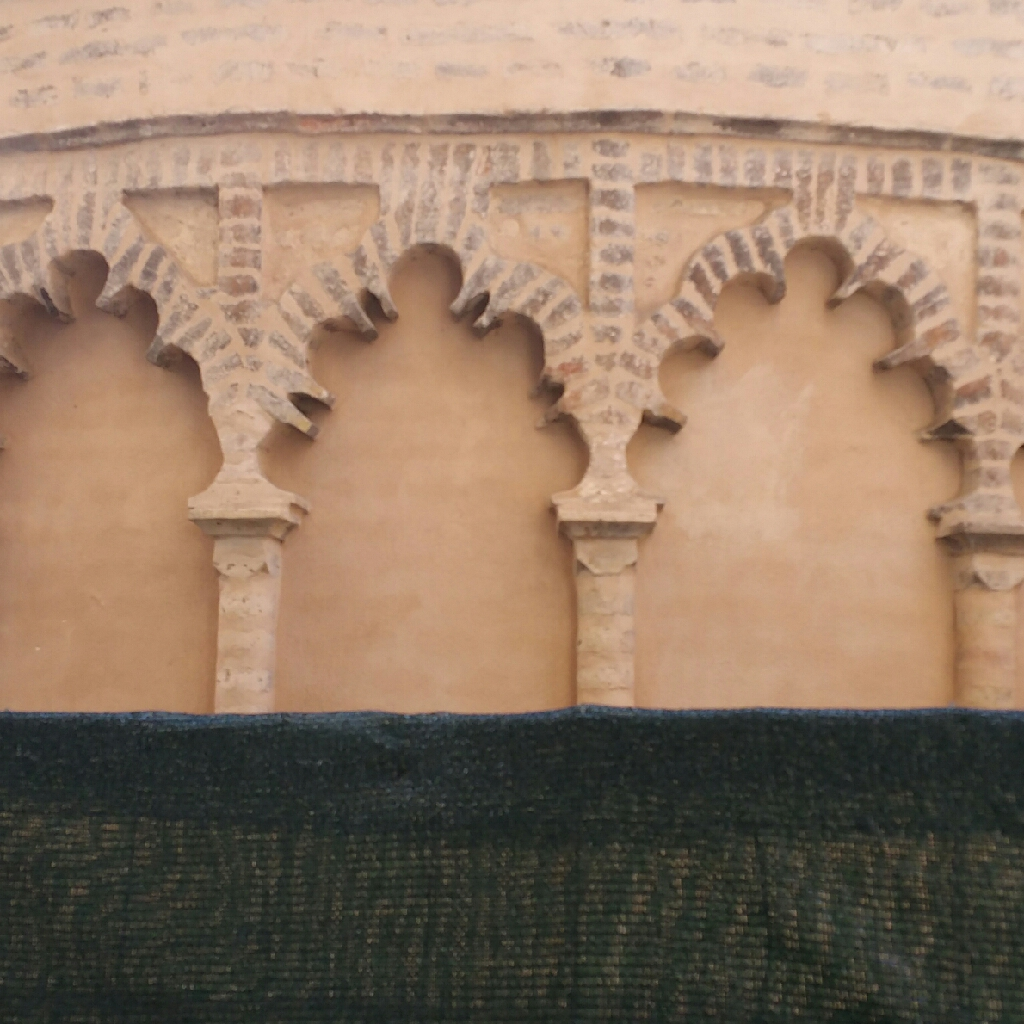arco-lobulado: (624, 206, 1007, 574), (242, 233, 609, 579), (1, 244, 237, 576)
